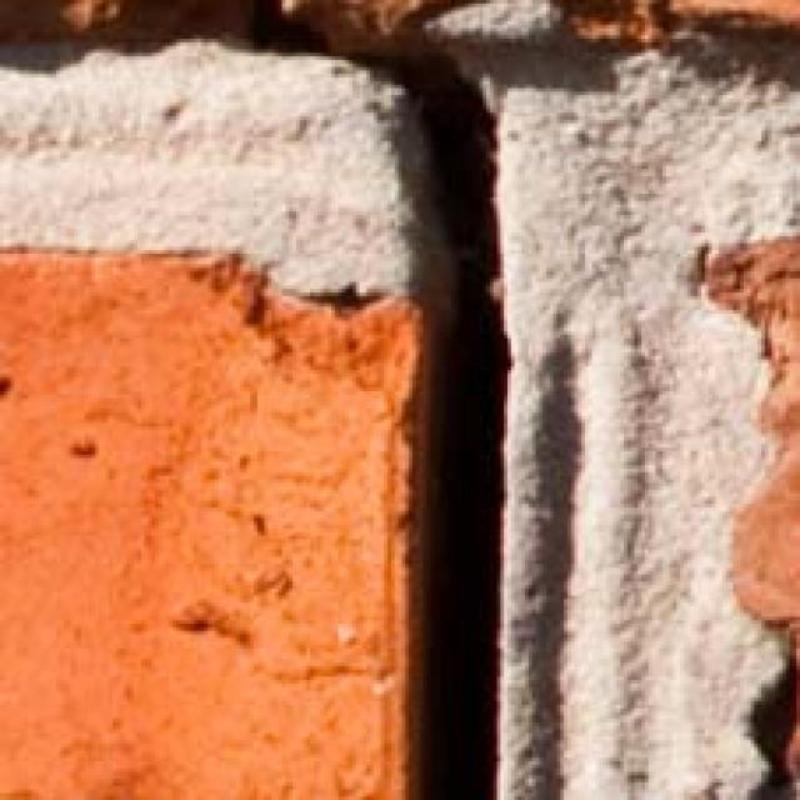pothole: (369, 53, 509, 799)
